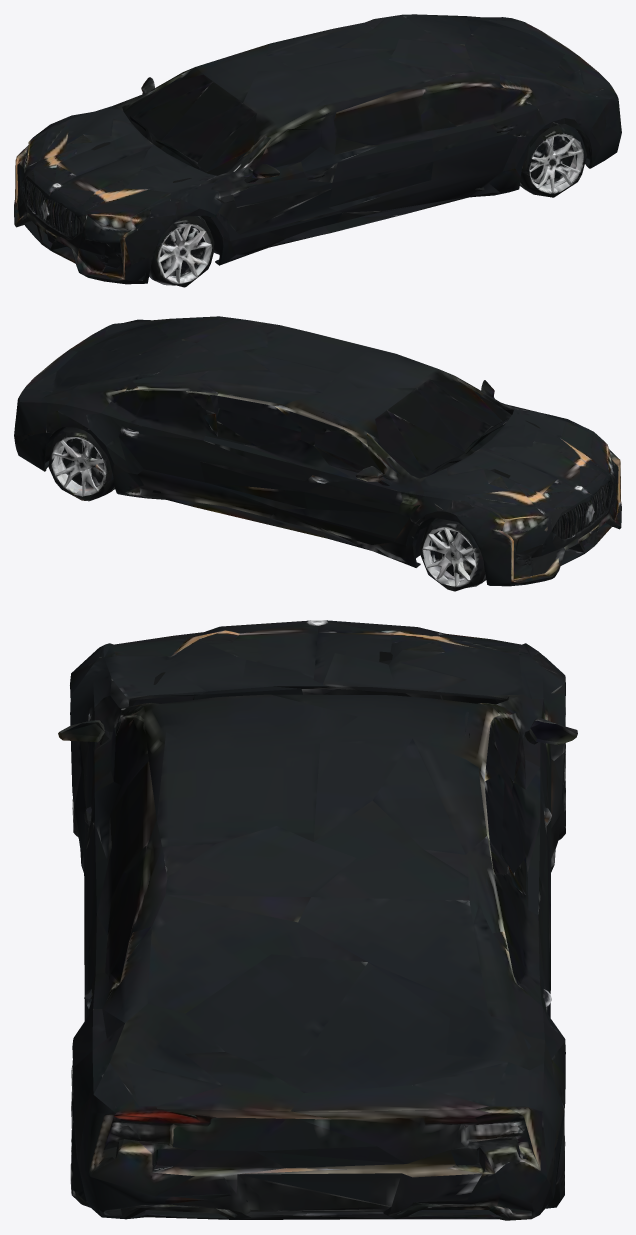
The model's file is mx_veh_limo.glb.
The picture shows the model from 3 angles, top to bottom: view 1: azimuth 30°, elevation 25°; view 2: azimuth 150°, elevation 25°; view 3: azimuth 270°, elevation 25°; orthographic projection. The views are drawn at different scales.
Size of the model in its own units: 1.9 by 0.4579 by 0.8085.
1 material, 1 textured.
